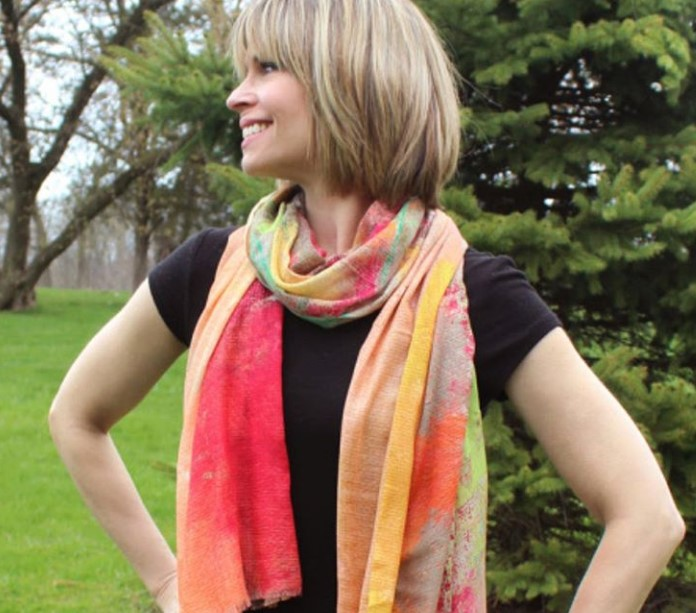face_no_mask: (227, 2, 438, 173)
